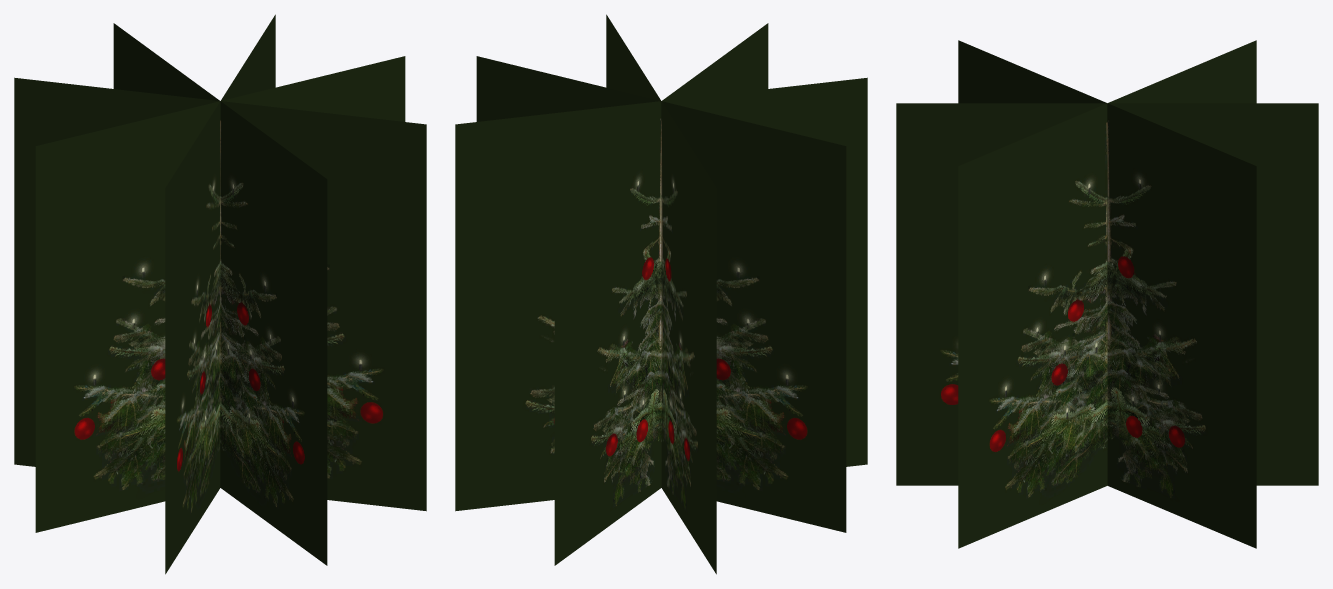
The model's file is xmastree.glb.
The picture shows the model from 3 angles, left to right: view 1: azimuth 30°, elevation 25°; view 2: azimuth 150°, elevation 25°; view 3: azimuth 270°, elevation 25°; orthographic projection.
Visible parts, largest first — view 1: Plane01; view 2: Plane01; view 3: Plane01.
Boxes of the visible parts, x1,y1,x2,y2 form: Plane01: [14, 14, 426, 574]; Plane01: [455, 14, 867, 574]; Plane01: [896, 40, 1318, 548].
Bounding box in the file's own units: 40 × 40 × 40.
Materials: 1 (1 with a texture image).
